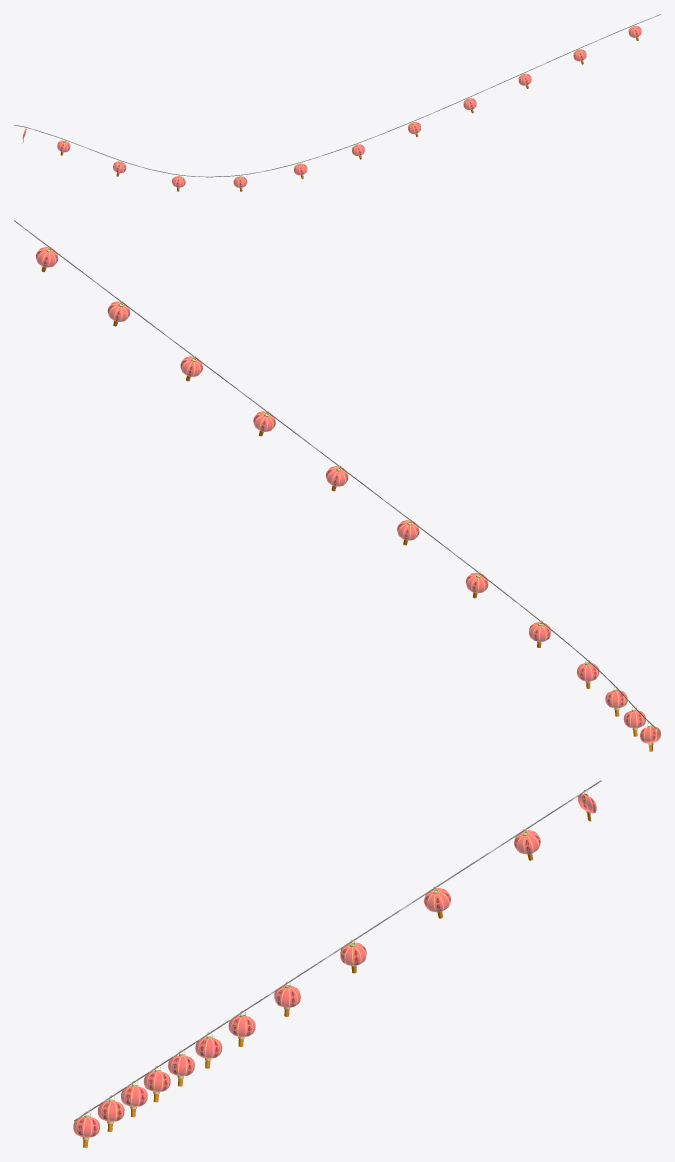
The model's file is SM_lamp_spline_Splines_29.fbx.
The picture shows the model from 3 angles, top to bottom: view 1: azimuth 30°, elevation 25°; view 2: azimuth 150°, elevation 25°; view 3: azimuth 270°, elevation 25°; orthographic projection. The views are drawn at different scales.
Visible parts, largest first — view 1: SM_lamp_spline_Splines_29; view 2: SM_lamp_spline_Splines_29; view 3: SM_lamp_spline_Splines_29.
Part boxes in pixels (x1,y1,x2,y2): SM_lamp_spline_Splines_29: (14,14,660,191); SM_lamp_spline_Splines_29: (14,220,660,751); SM_lamp_spline_Splines_29: (73,780,601,1147).
Size of the model in its own units: 2449 by 1088 by 579.
